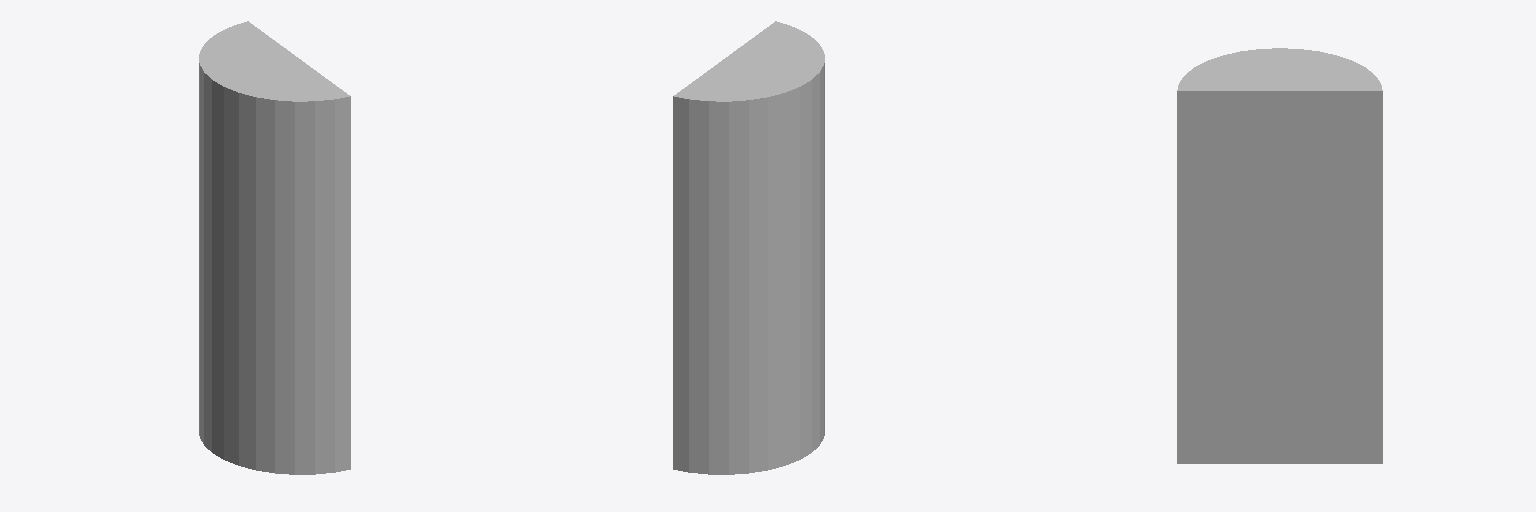
The model's file is building-half-cylinder.obj.
3 views of the same model, side by side, from view 1: azimuth 30°, elevation 25°; view 2: azimuth 150°, elevation 25°; view 3: azimuth 270°, elevation 25° (orthographic).
Visible parts, largest first — view 1: Cylinder; view 2: Cylinder; view 3: Cylinder.
Part boxes in pixels (bbox=[...]): Cylinder: bbox=[199, 21, 350, 474]; Cylinder: bbox=[673, 21, 824, 474]; Cylinder: bbox=[1177, 48, 1382, 463].
Size of the model in its own units: 2.93 by 12 by 5.99.